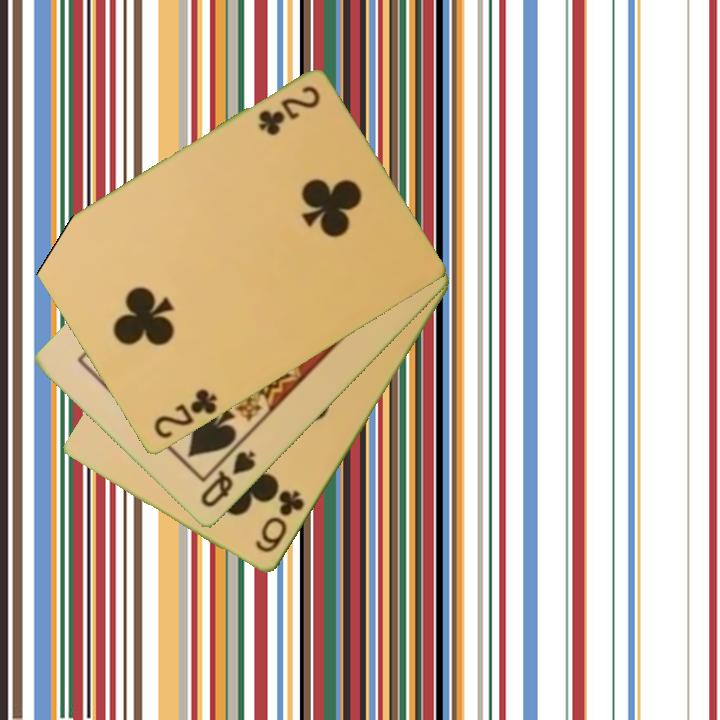2c: (150, 386, 220, 443), (254, 82, 323, 138)
6c: (252, 487, 308, 557)
Qs: (197, 447, 259, 511)
